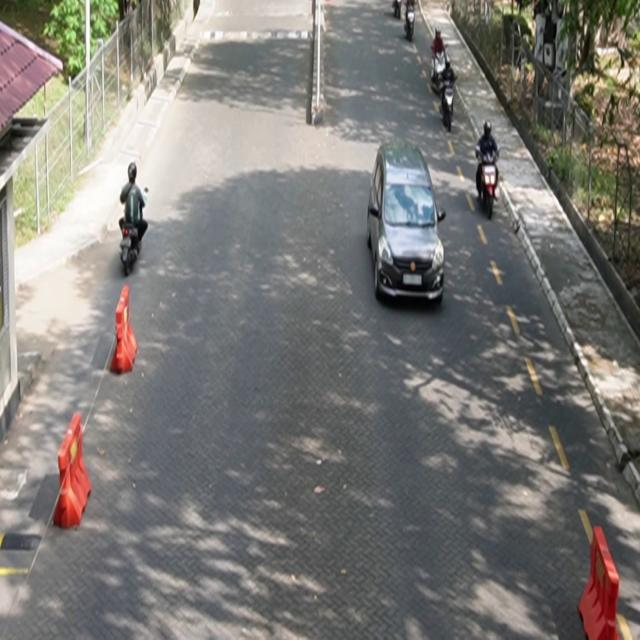car: (367, 140, 447, 305)
